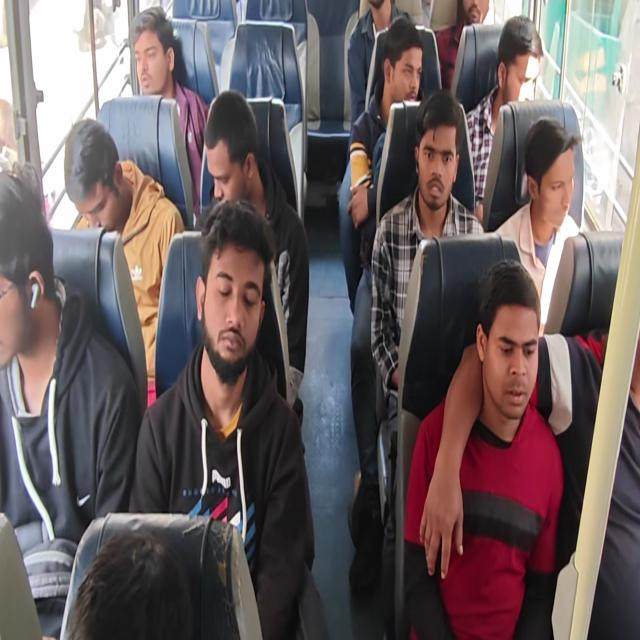person: (66, 521, 216, 640), (192, 191, 265, 387), (0, 132, 49, 379), (478, 253, 541, 417), (62, 105, 126, 235), (200, 86, 262, 208), (522, 120, 586, 236), (491, 12, 548, 115), (416, 85, 459, 207), (379, 10, 426, 119), (125, 7, 180, 97), (459, 0, 489, 25), (366, 0, 392, 21)
